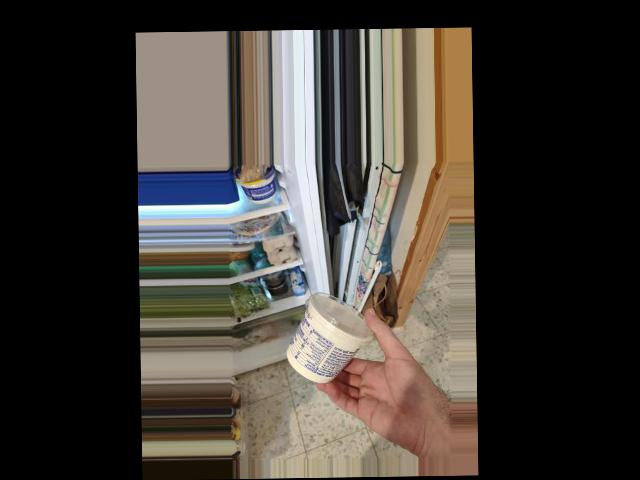cotage: (295, 303, 380, 381)
